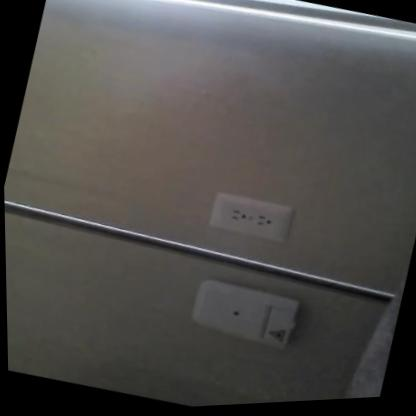OUTLET: (207, 188, 294, 249)
